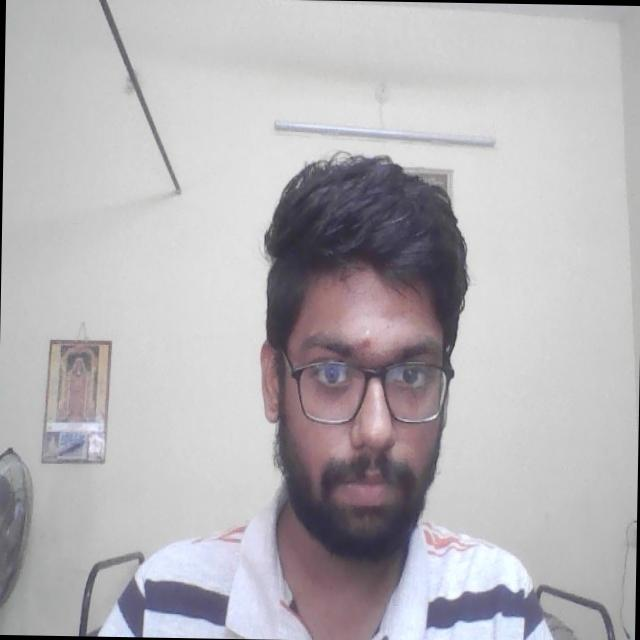Focused: (276, 292, 445, 517)
